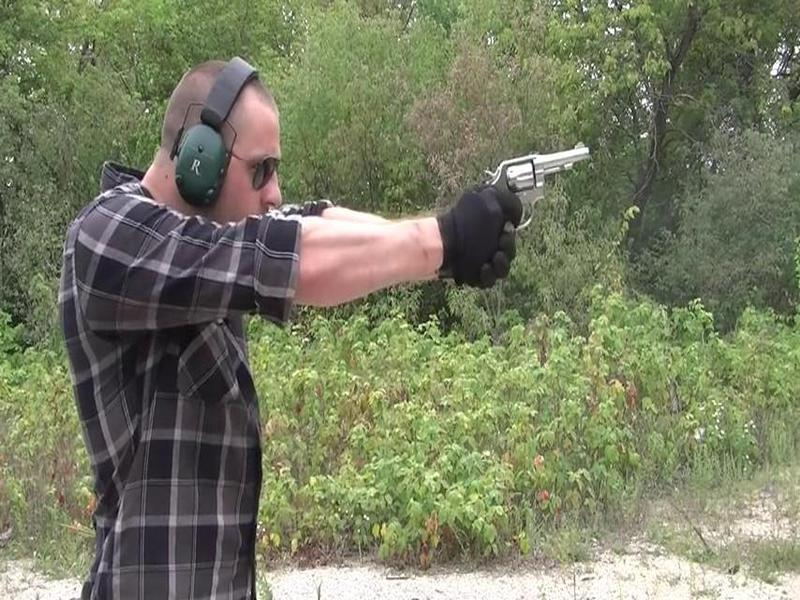Revolver: (469, 118, 602, 238)
